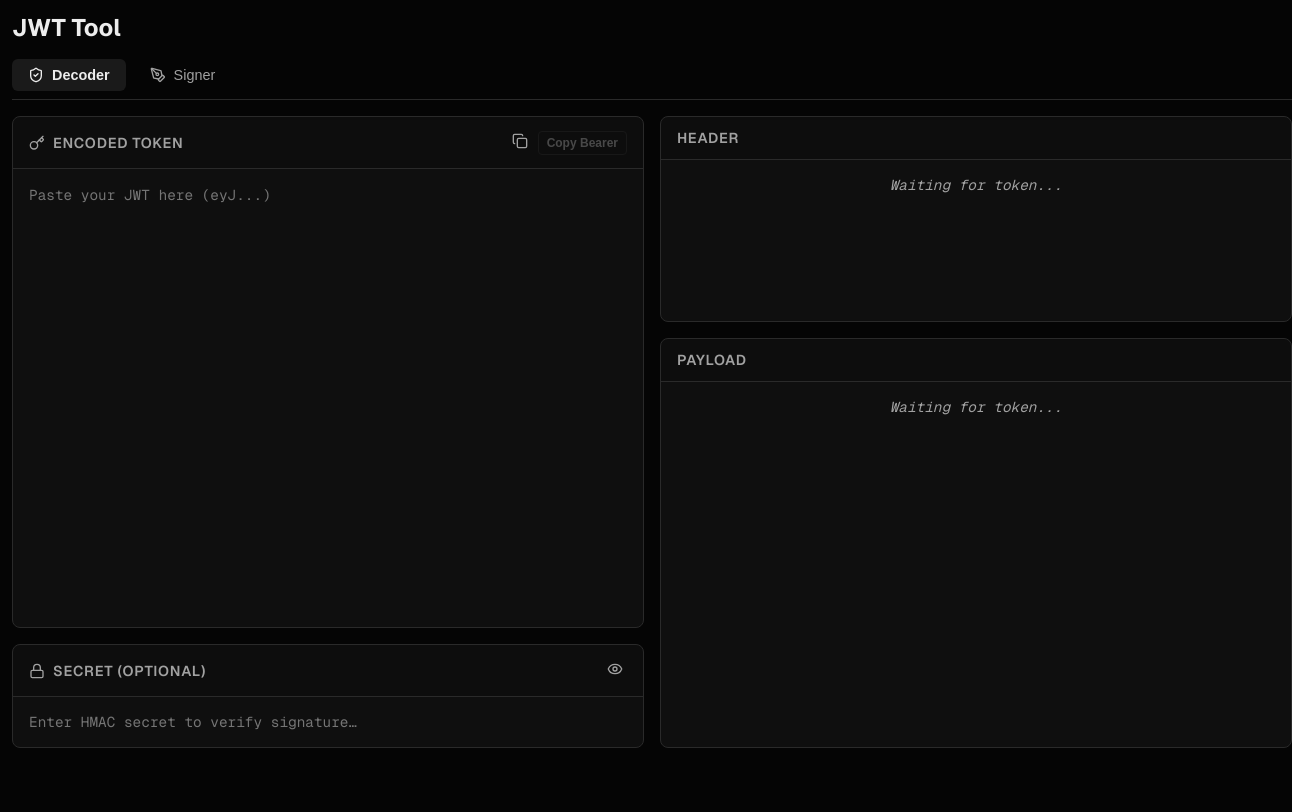
Test: JwtTool › verifies signature with correct secret
The image size is (1292, 812).
Type "eyJhbGciOiJIUzI1NiIsInR5cCI6IkpXVCJ9.eyJzdWIiOiIxMjM0NTY3ODkwIiwibmFtZSI6IkpvaG4gRG9lIiwiaWF0IjoxNTE2MjM5MDIyfQ.XbPfbIHMI6arZ3Y922BhjWgQzWXcXNrz0ogtVhfEd2o" into the text box named "JWT token". click: (328, 398)
box: [13,169,643,627]
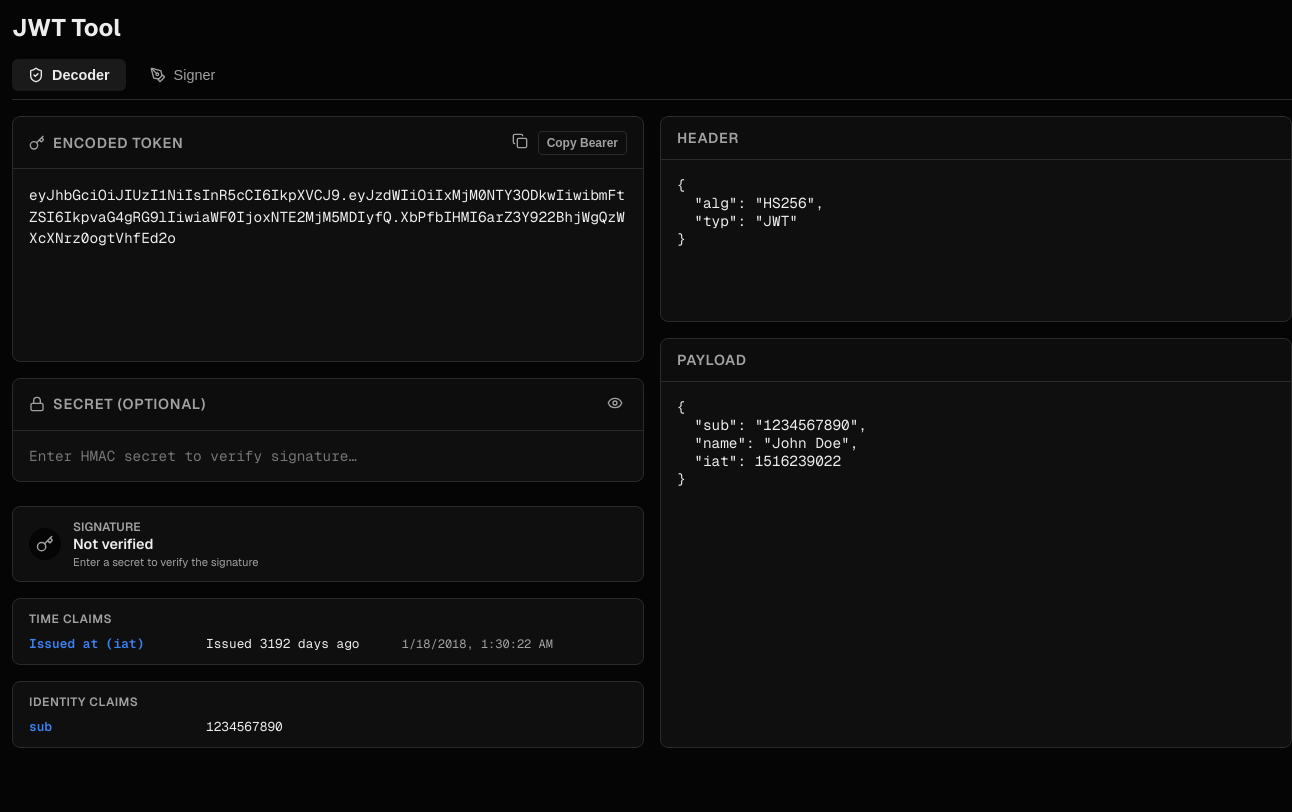
Type "secret" into the password field named "HMAC secret for verification". click: (328, 456)
box: [13,431,643,481]
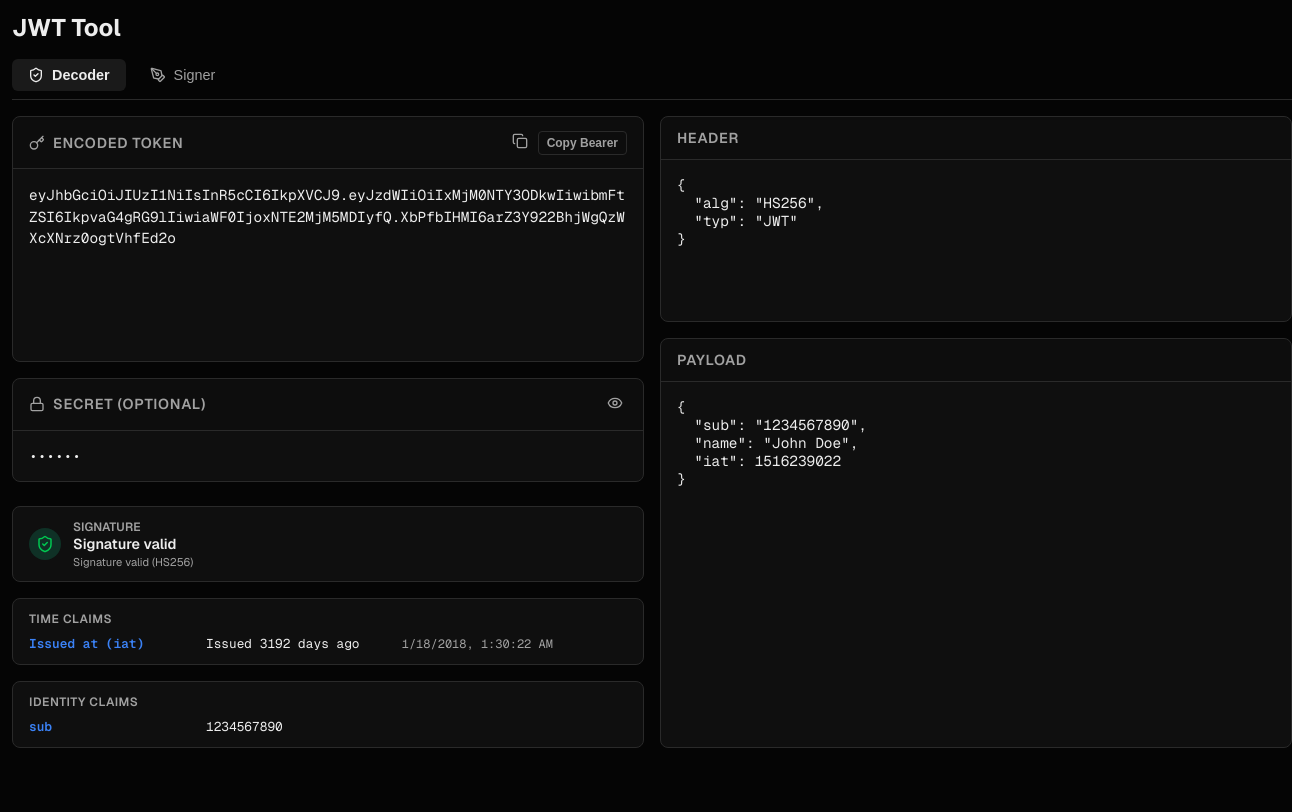
Expected: the text "Signature valid" is shown, [73,535,193,553]
